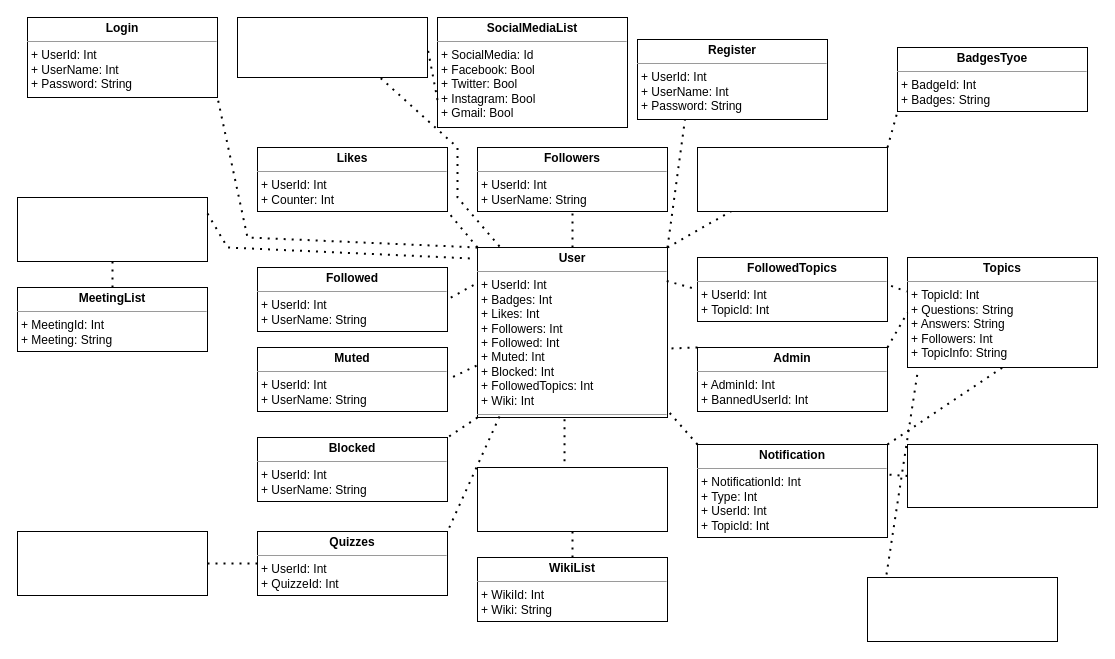
Image size: 1115x659. Some labels were removed from this diagram. Here are the shapes that lost their labels. From the top down, the box of each, then its label:
(236, 16, 428, 78): SocialMedia + UserId: Int + SocialMediaType: Int
(696, 146, 888, 212): Badges + UserId: Int + Badges: Int
(16, 196, 208, 262): Meetings + UserId: Int + Meeting: Int
(906, 444, 1098, 508): NotificationType + NotificationId: Int + Type: String
(476, 466, 668, 532): Wikis + UserId: Int + WikiId: Int
(16, 530, 208, 596): QuizzeList + QuizzeId: Int + QuizzeQuestions: String
(866, 576, 1058, 642): FreeLoadersList + UserId: Int + FreeLoadTopic: Int
